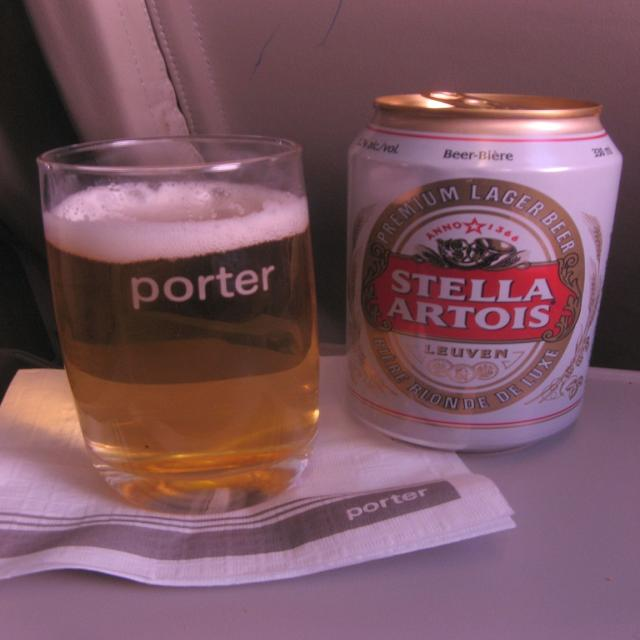stellaartois: (358, 179, 587, 416)
